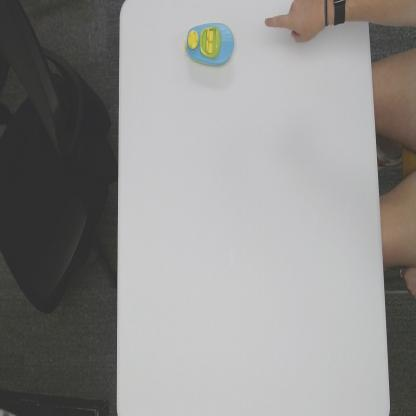Arm: (346, 0, 370, 26)
Boat: (184, 21, 236, 69)
Hand: (264, 0, 328, 46)
